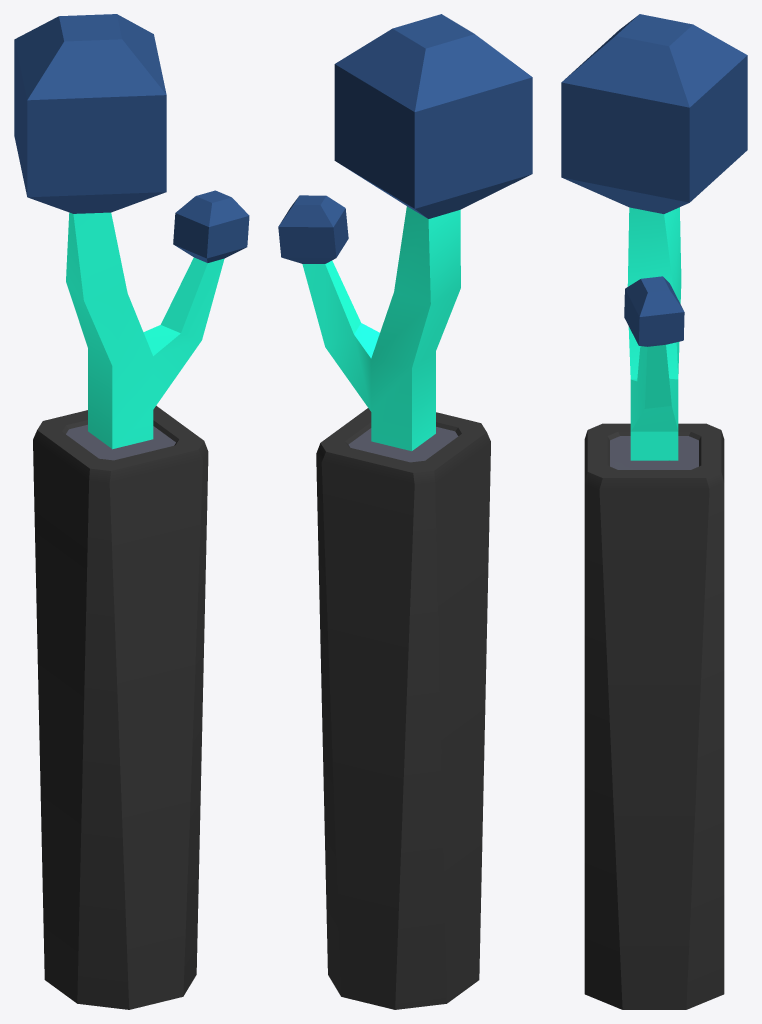
The picture shows the model from 3 angles, left to right: view 1: azimuth 30°, elevation 25°; view 2: azimuth 150°, elevation 25°; view 3: azimuth 270°, elevation 25°; orthographic projection. The views are drawn at different scales.
Visible parts, largest first — view 1: Box043; view 2: Box043; view 3: Box043.
Part boxes in pixels (left/top/right/bottom): Box043: left=14, top=14, right=249, bottom=1009; Box043: left=278, top=14, right=532, bottom=1009; Box043: left=561, top=14, right=747, bottom=1009.
Bounding box in the file's own units: 26.32 × 103 × 18.63.
